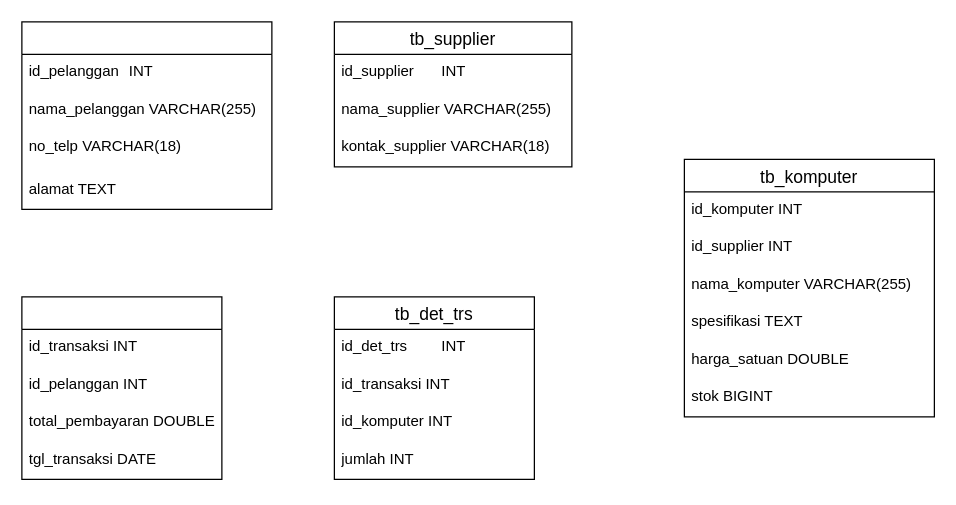
This 956x505 diagram has some shape labels left out. Here are the shapes that lost their labels. From the top down, the box of each, then its label:
(21, 21, 272, 209): tb_pelanggan
(21, 296, 222, 479): tb_transaksi
